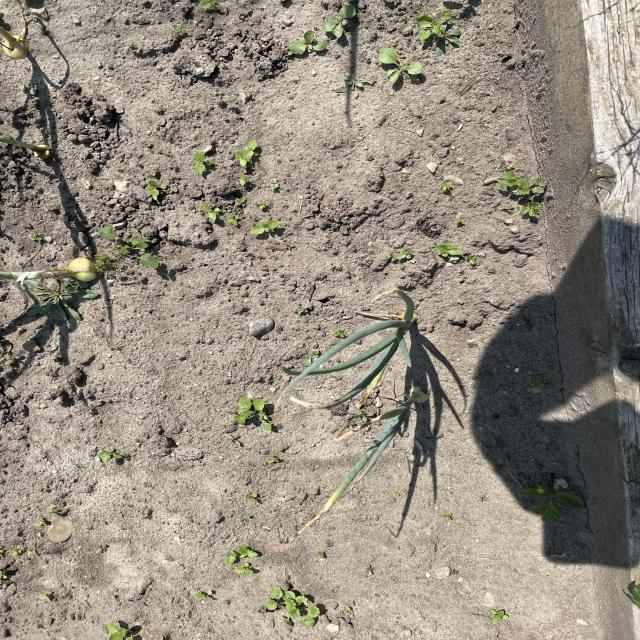Onion: (314, 294, 426, 402), (354, 386, 433, 477), (0, 260, 104, 284)
weed: (280, 3, 361, 58), (261, 586, 340, 637), (94, 224, 167, 278), (523, 478, 601, 528), (496, 168, 558, 230), (201, 199, 288, 242), (224, 386, 285, 444), (405, 7, 466, 56), (380, 44, 416, 94), (222, 540, 265, 581), (227, 141, 276, 174), (182, 148, 216, 175)
